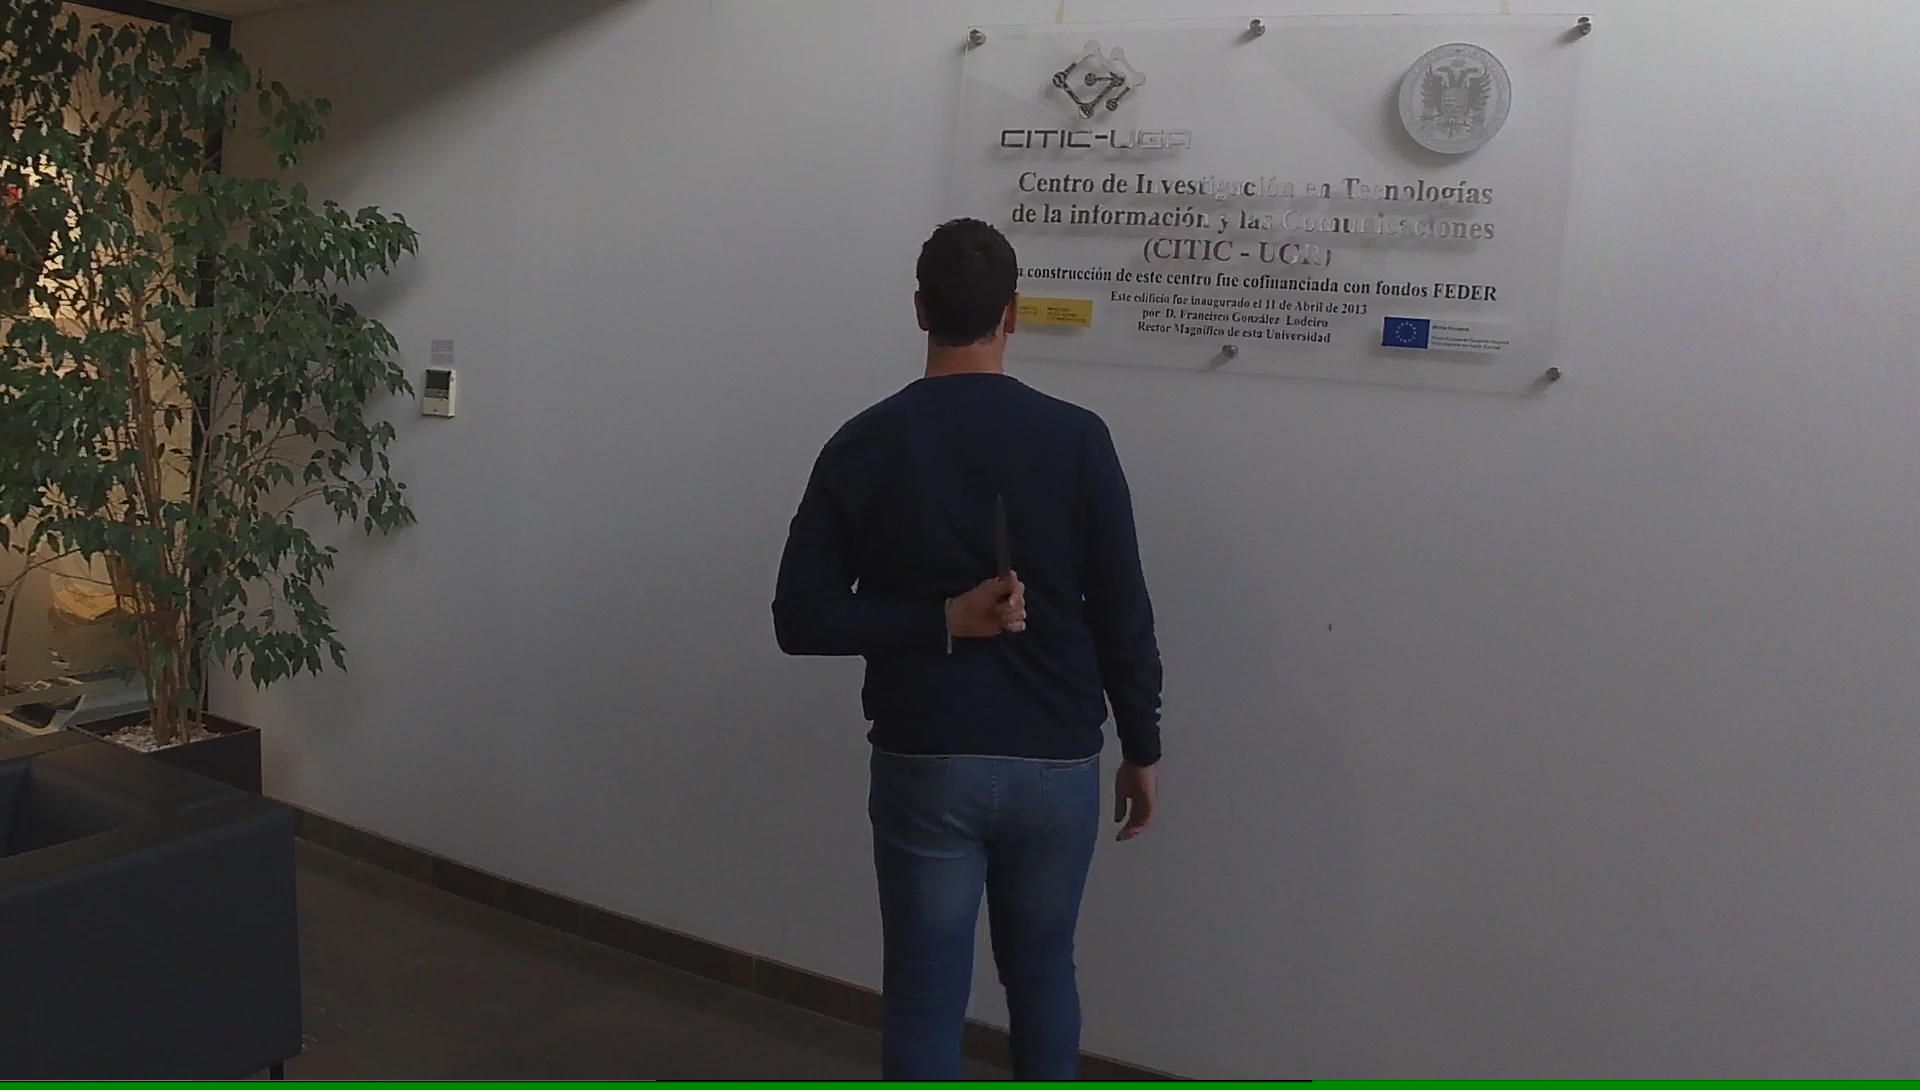knife: (978, 482, 1035, 645)
